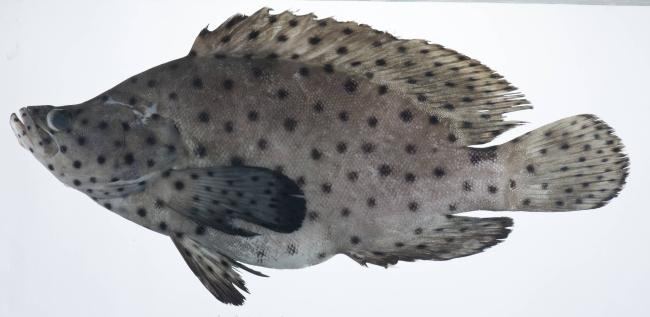fish: (8, 9, 629, 304)
